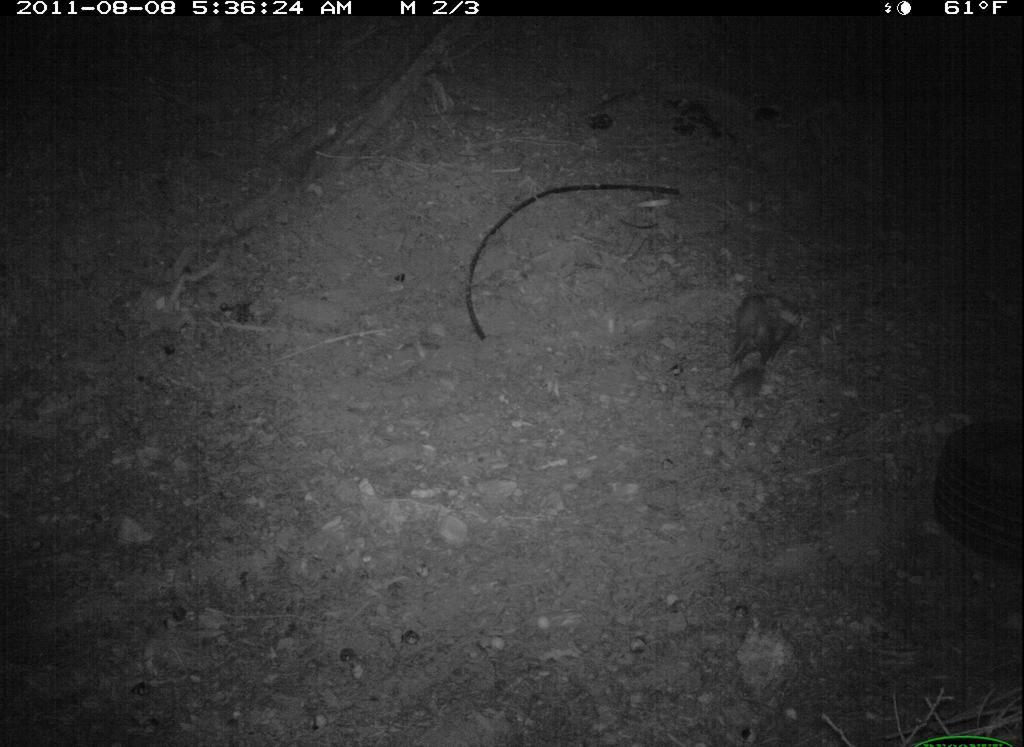opossum: (702, 277, 821, 408)
